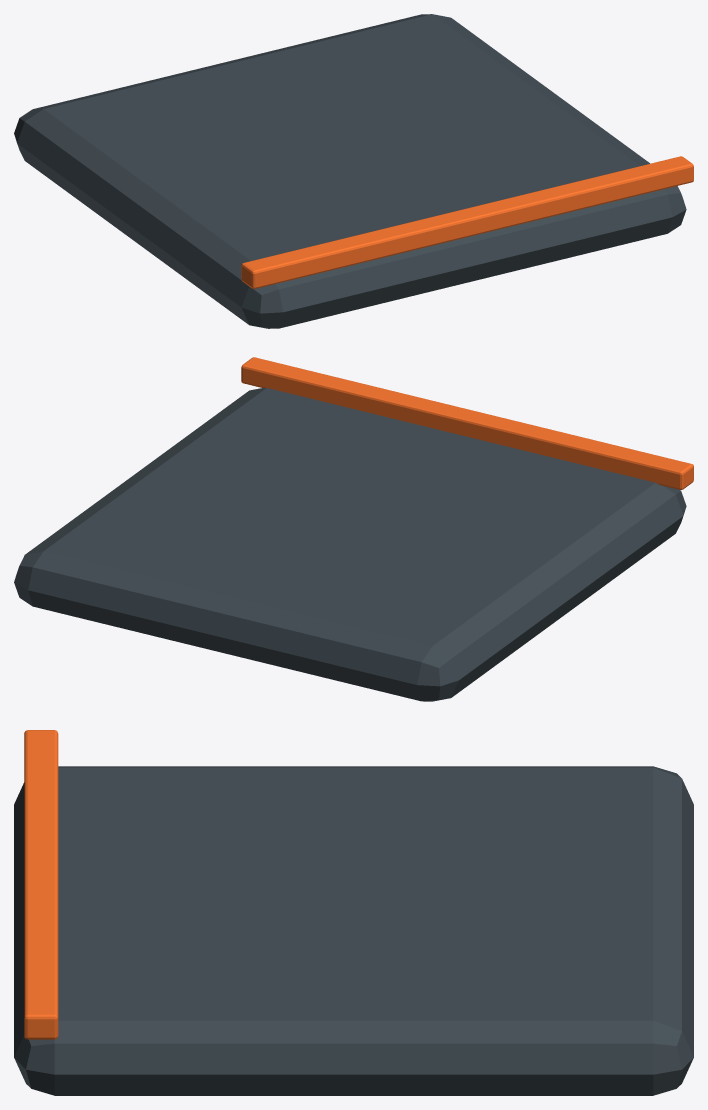
Rendered from LPK_Floor_Square_2m.fbx.
The picture shows the model from 3 angles, top to bottom: view 1: azimuth 30°, elevation 25°; view 2: azimuth 150°, elevation 25°; view 3: azimuth 270°, elevation 25°; orthographic projection. The views are drawn at different scales.
Visible parts, largest first — view 1: LPK_Floor_Square_2m_Mesh, LPK_Floor_Square_2m_Edge; view 2: LPK_Floor_Square_2m_Mesh, LPK_Floor_Square_2m_Edge; view 3: LPK_Floor_Square_2m_Mesh, LPK_Floor_Square_2m_Edge.
Part boxes in pixels (left/top/right/bottom): LPK_Floor_Square_2m_Mesh: left=14, top=14, right=686, bottom=328; LPK_Floor_Square_2m_Edge: left=241, top=156, right=693, bottom=288; LPK_Floor_Square_2m_Mesh: left=14, top=388, right=686, bottom=701; LPK_Floor_Square_2m_Edge: left=241, top=357, right=693, bottom=489; LPK_Floor_Square_2m_Mesh: left=14, top=766, right=693, bottom=1095; LPK_Floor_Square_2m_Edge: left=24, top=730, right=58, bottom=1039.
Bounding box in the file's own units: 2 × 0.31 × 2.
